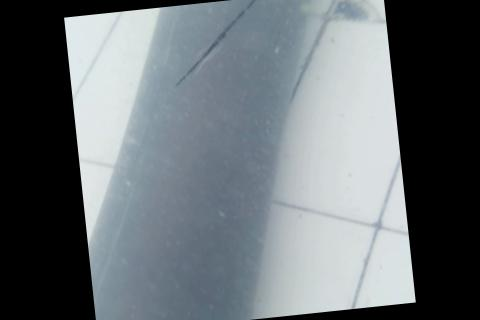keretakan: (166, 0, 282, 86)
